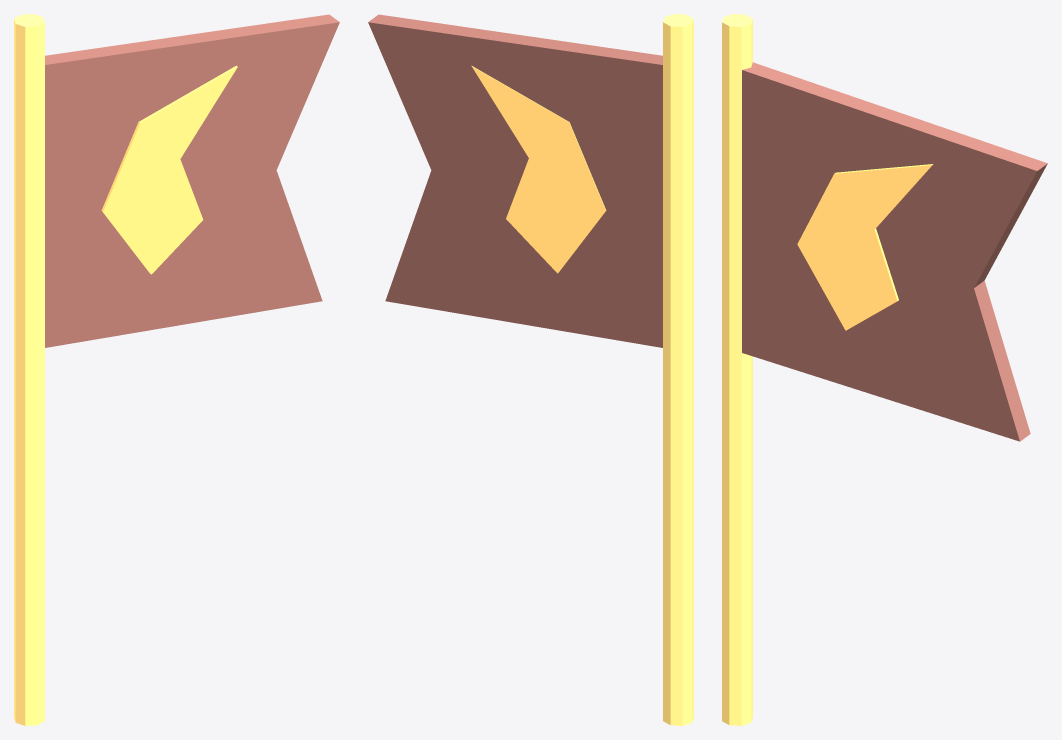
Rendered from ember_flag.glb.
3 renders of one model, left to right at view 1: azimuth 30°, elevation 25°; view 2: azimuth 150°, elevation 25°; view 3: azimuth 330°, elevation 25°, orthographic.
Parts seen in each view (by area): view 1: Banner, Pole, FlameMark; view 2: Banner, Pole, FlameMark; view 3: Banner, Pole, FlameMark.
Boxes of the visible parts, bbox=[...] form: Banner: bbox=[45, 14, 339, 347]; Pole: bbox=[14, 14, 44, 725]; FlameMark: bbox=[101, 65, 237, 274]; Banner: bbox=[368, 14, 662, 347]; Pole: bbox=[663, 14, 693, 725]; FlameMark: bbox=[471, 65, 606, 273]; Banner: bbox=[742, 62, 1047, 441]; Pole: bbox=[722, 14, 752, 725]; FlameMark: bbox=[797, 164, 933, 330].
Bounding box in the file's own units: 2.77 × 5.8 × 0.24.
